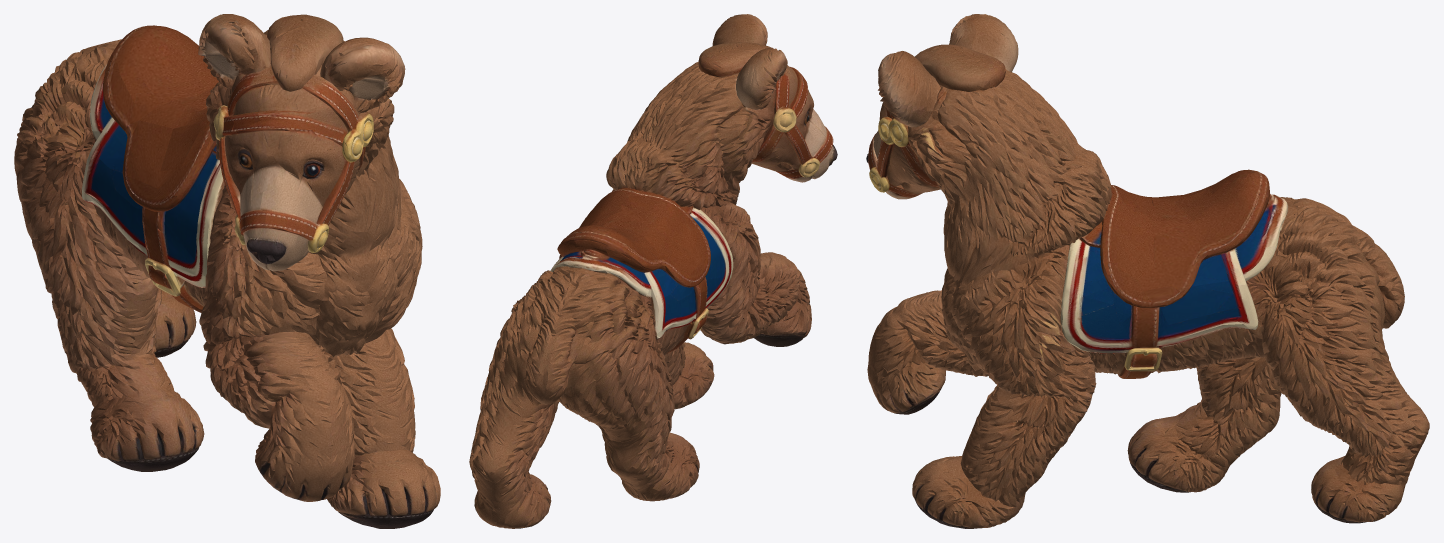
The model's file is grizzly.glb.
3 renders of one model, left to right at view 1: azimuth 30°, elevation 25°; view 2: azimuth 150°, elevation 25°; view 3: azimuth 270°, elevation 25°, orthographic. The views are drawn at different scales.
Size of the model in its own units: 0.8045 by 1.69 by 1.9.
1 material, 1 textured.
